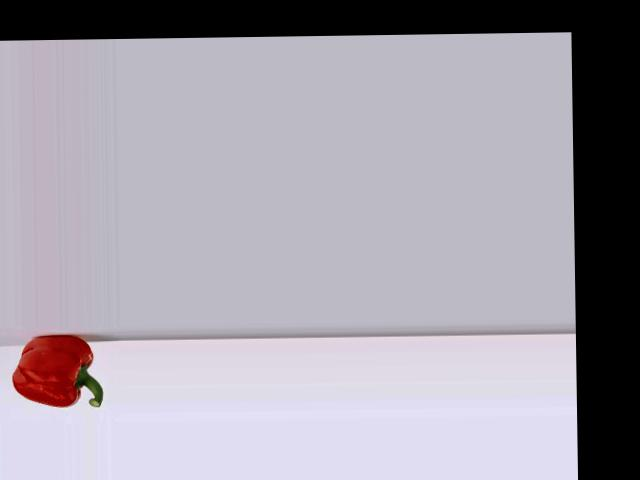bell_pepper: (7, 331, 111, 411)
